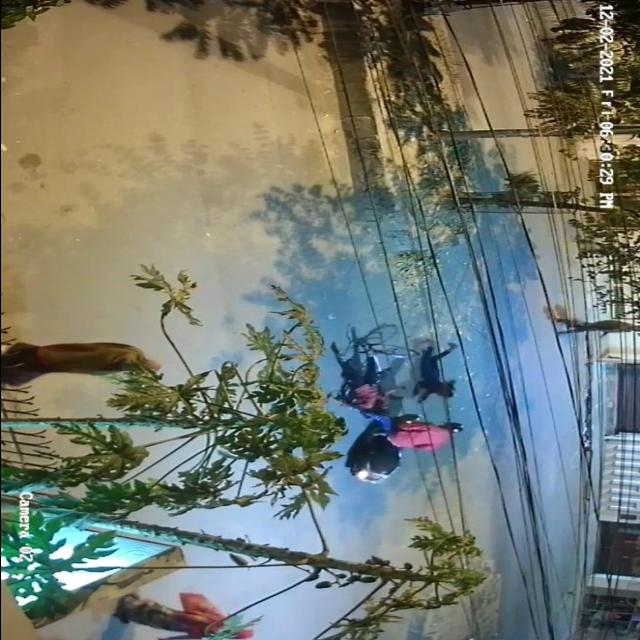accident: (321, 321, 466, 487)
